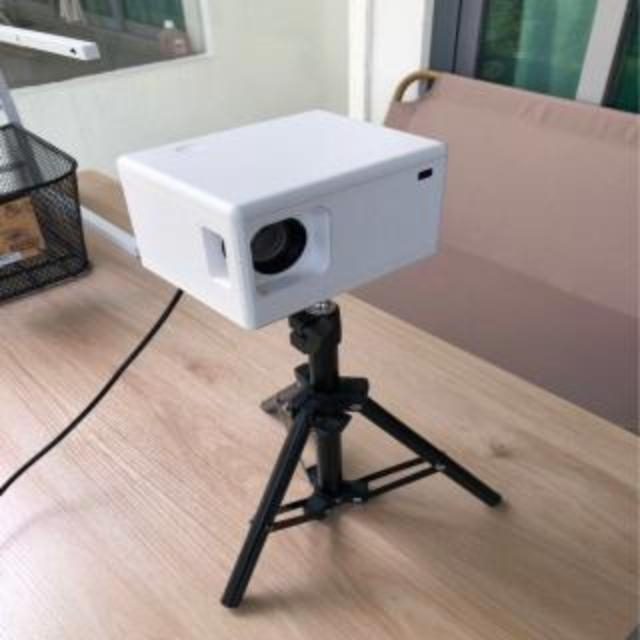Projector: (118, 108, 448, 330)
